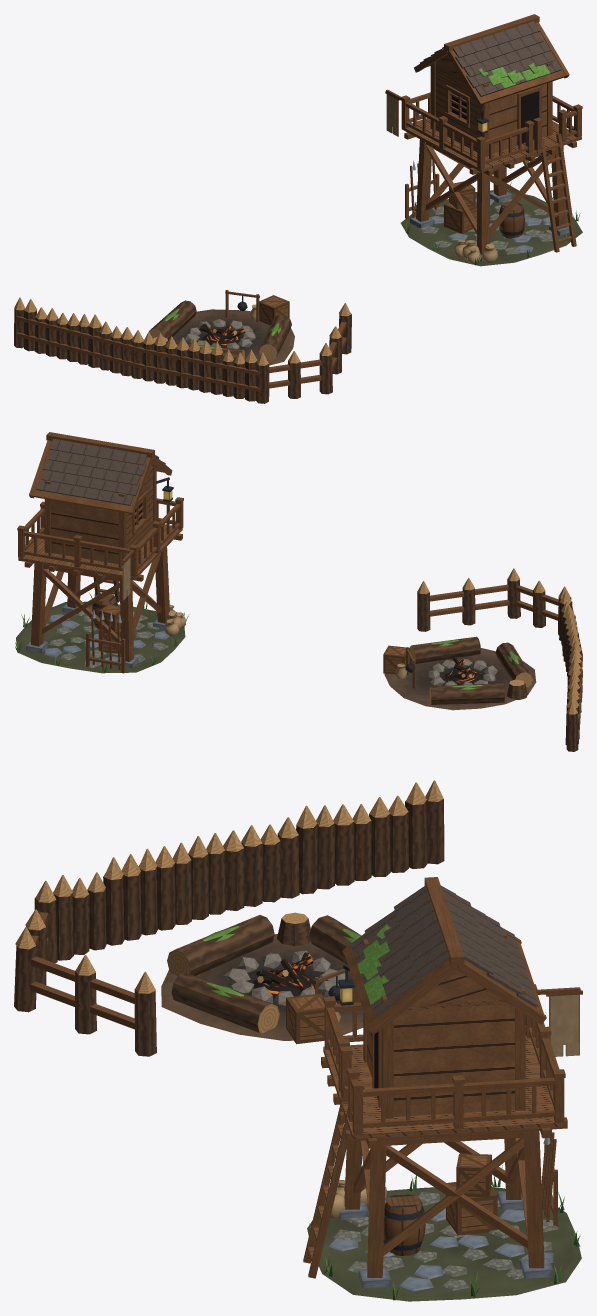
The model's file is OutskirtsGuardhouse.fbx.
3 views of the same model, one above another, from view 1: azimuth 30°, elevation 25°; view 2: azimuth 150°, elevation 25°; view 3: azimuth 270°, elevation 25° (orthographic). The views are drawn at different scales.
Parts seen in each view (by area): view 1: GuardTower_Structure, Outskirts_Fence, GuardTower_Roof, GuardTower_CobblePad, Campfire_Area, GuardTower_Props, Campfire_StoneHearth; view 2: GuardTower_Structure, GuardTower_Roof, Outskirts_Fence, GuardTower_CobblePad, Campfire_Area, Campfire_StoneHearth, GuardTower_Props; view 3: GuardTower_Structure, Outskirts_Fence, GuardTower_CobblePad, GuardTower_Roof, Campfire_Area, GuardTower_Props, Campfire_StoneHearth.
Part boxes in pixels (<box>): GuardTower_Structure: <box>400,54,582,254</box>; Outskirts_Fence: <box>14,297,351,403</box>; GuardTower_Roof: <box>414,14,569,106</box>; GuardTower_CobblePad: <box>400,182,582,266</box>; Campfire_Area: <box>148,290,291,361</box>; GuardTower_Props: <box>385,89,524,263</box>; Campfire_StoneHearth: <box>172,309,294,365</box>; GuardTower_Structure: <box>17,465,183,661</box>; GuardTower_Roof: <box>29,432,172,515</box>; Outskirts_Fence: <box>417,568,582,751</box>; GuardTower_CobblePad: <box>15,591,189,673</box>; Campfire_Area: <box>383,636,532,704</box>; Campfire_StoneHearth: <box>384,648,536,710</box>; GuardTower_Props: <box>86,550,185,673</box>; GuardTower_Structure: <box>303,931,567,1278</box>; Outskirts_Fence: <box>14,780,444,1056</box>; GuardTower_CobblePad: <box>307,1165,581,1301</box>; GuardTower_Roof: <box>342,877,546,1034</box>; Campfire_Area: <box>167,912,361,1044</box>; GuardTower_Props: <box>324,987,582,1255</box>; Campfire_StoneHearth: <box>161,934,363,1040</box>.
Bounding box in the file's own units: 53.12 × 18.31 × 28.55.
2 materials, 2 textured.
